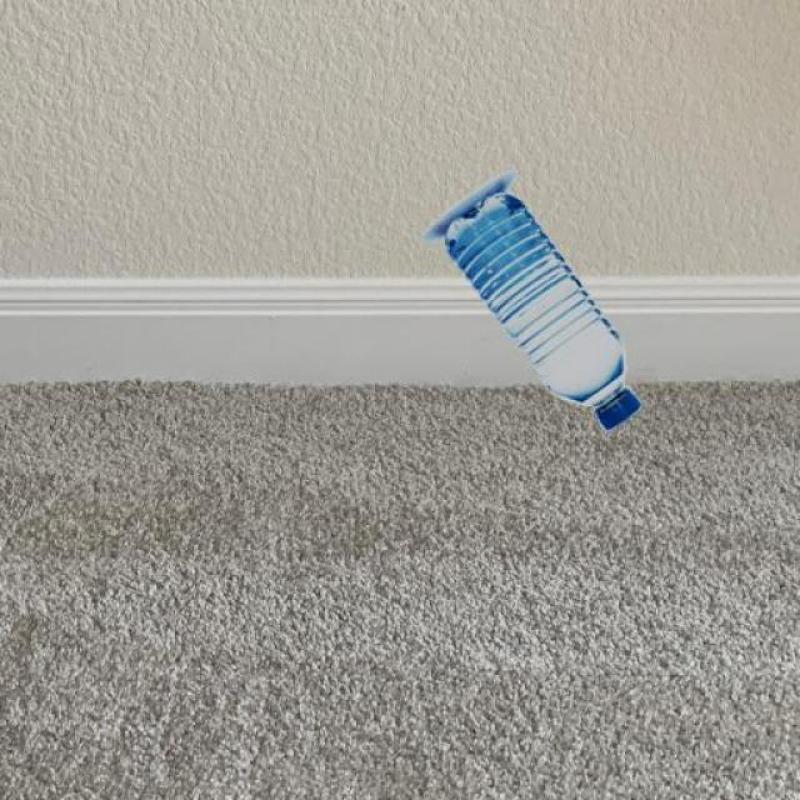botella: (442, 194, 640, 430)
